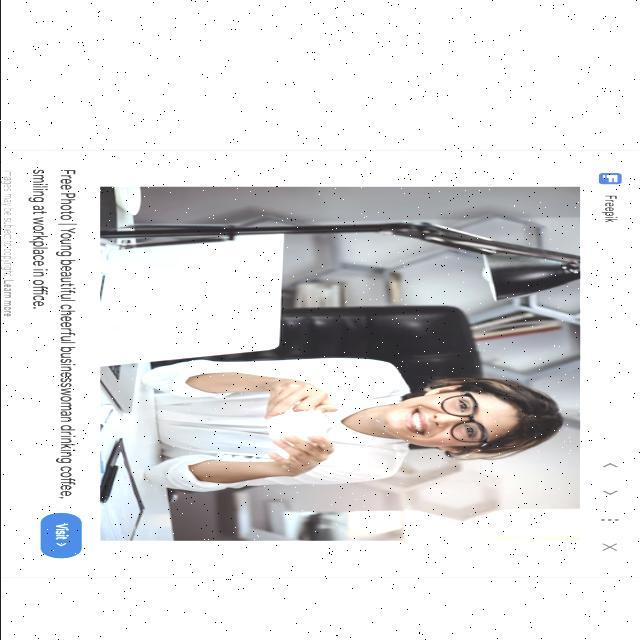face_no_mask: (394, 386, 508, 454)
